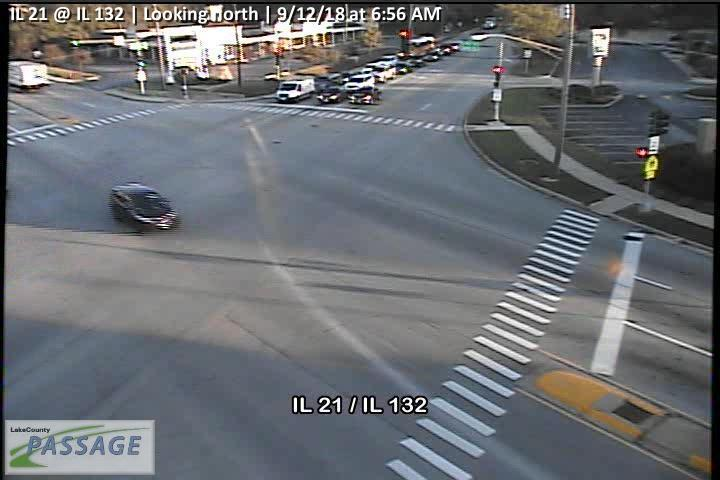SUV: (108, 181, 181, 235), (275, 75, 315, 104), (344, 73, 375, 97), (371, 62, 396, 83)
Sedan: (349, 88, 381, 104), (318, 86, 346, 103), (396, 61, 413, 73)
Truck: (8, 60, 53, 93)
